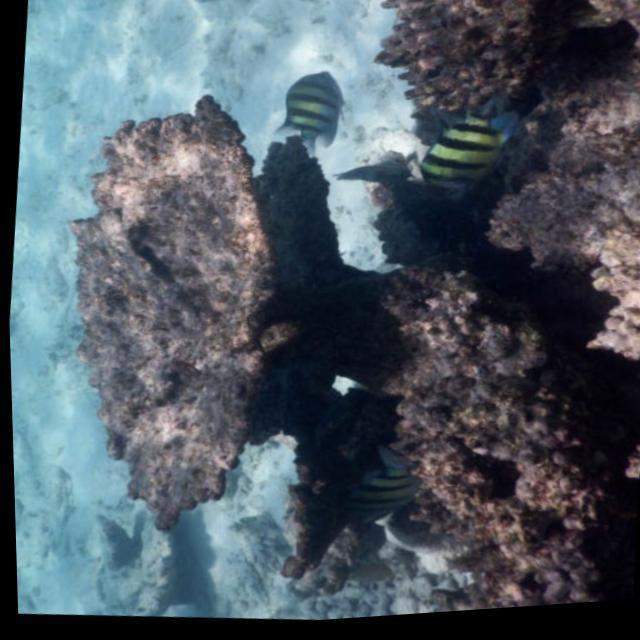Dead Coral: (335, 274, 640, 623), (56, 81, 267, 531), (390, 0, 554, 110)
